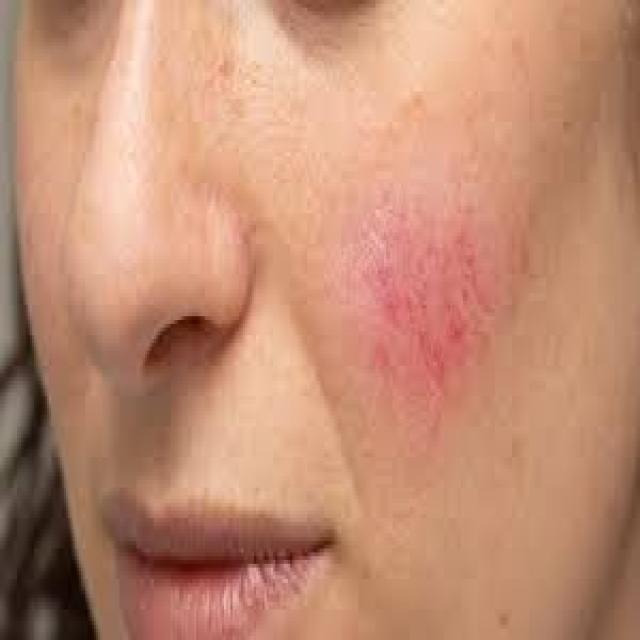Rosacea: (334, 185, 501, 406)
